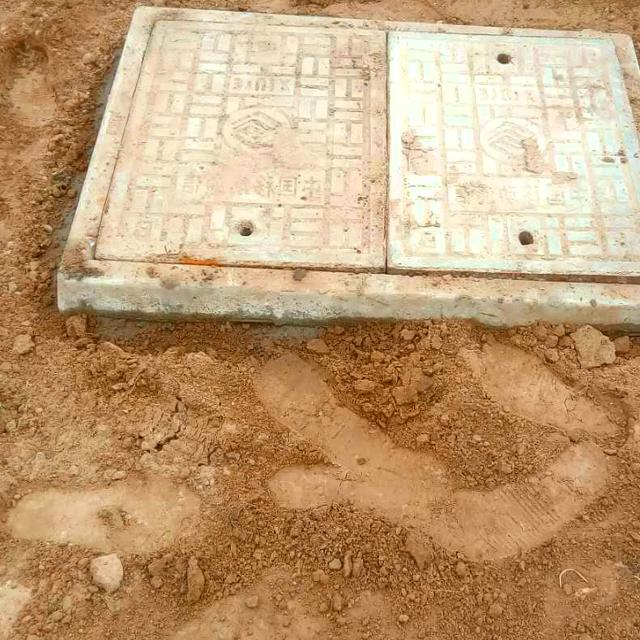good: (56, 6, 640, 296)
